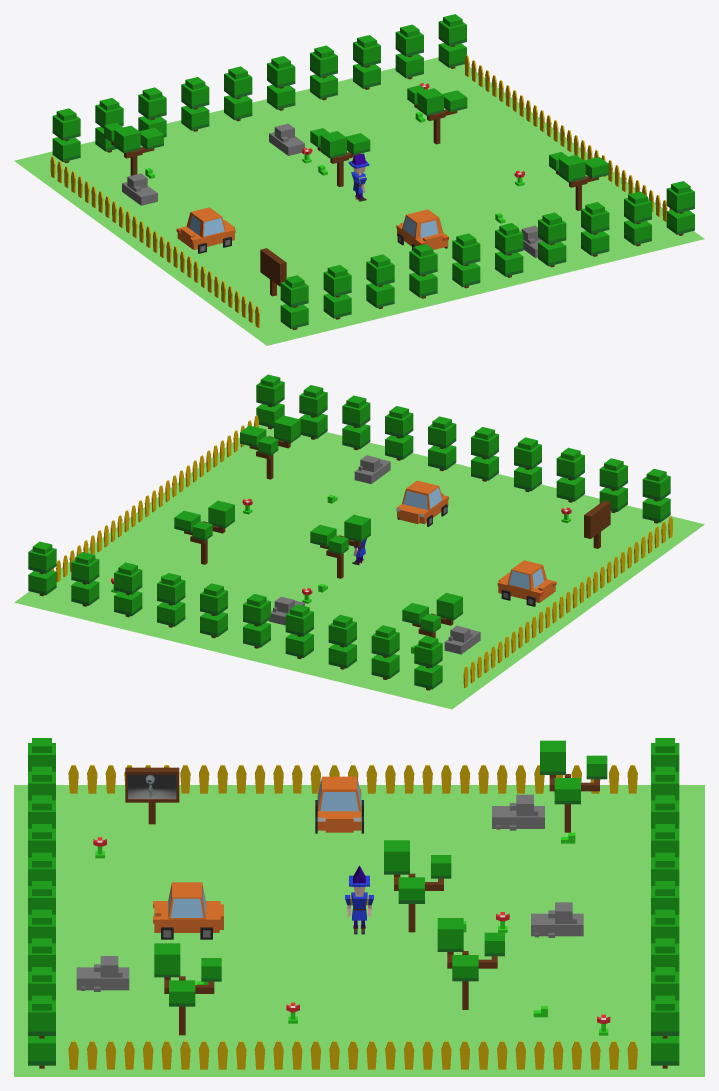
3 renders of one model, top to bottom at view 1: azimuth 30°, elevation 25°; view 2: azimuth 150°, elevation 25°; view 3: azimuth 270°, elevation 25°, orthographic. The views are drawn at different scales.
Visible parts, largest first — view 1: Ground, Tree, Fence, Car.001, BigTree.003, BigTree, BigTree.002, BigTree.001, Car, Board, Rock.001, Rock (+1 smaller); view 2: Ground, Tree, Fence, Car.001, BigTree.002, BigTree, BigTree.003, Car, BigTree.001, Board, Rock.001, Rock.002; view 3: Ground, Tree, Fence, Car, BigTree.001, BigTree.003, BigTree.002, BigTree, Car.001, Board, Rock.002, Rock (+2 smaller).
Part boxes in pixels (x1,y1,x2,y2): Ground: (14,57,704,345); Tree: (52,14,694,329); Fence: (50,55,671,327); Car.001: (176,207,235,253); BigTree.003: (407,85,467,144); BigTree: (310,128,370,187); BigTree.002: (549,152,608,210); BigTree.001: (104,122,163,175); Car: (396,209,448,250); Board: (260,248,286,296); Rock.001: (122,173,157,205); Rock: (269,123,304,155); Ground: (14,424,704,709); Tree: (28,374,670,690); Fence: (51,415,672,687); Car.001: (497,560,556,606); BigTree.002: (240,415,300,479); BigTree: (310,514,370,578); BigTree.003: (174,500,234,564); Car: (396,480,448,526); BigTree.001: (402,593,462,637); Board: (584,500,610,548); Rock.001: (444,625,480,654); Rock.002: (354,455,390,484); Ground: (14,785,704,1076); Tree: (28,738,679,1068); Fence: (68,765,637,1069); Car: (153,882,223,939); BigTree.001: (540,740,607,832); BigTree.003: (437,918,504,1009); BigTree.002: (154,943,221,1035); BigTree: (384,840,451,932); Car.001: (315,776,363,833); Board: (125,767,179,824); Rock.002: (76,956,129,991); Rock: (531,902,583,937).
Bounding box in the file's own units: 52.39 × 6.46 × 52.39.
22 materials, 1 textured.
